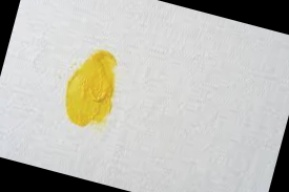mustard: (55, 41, 130, 137)
